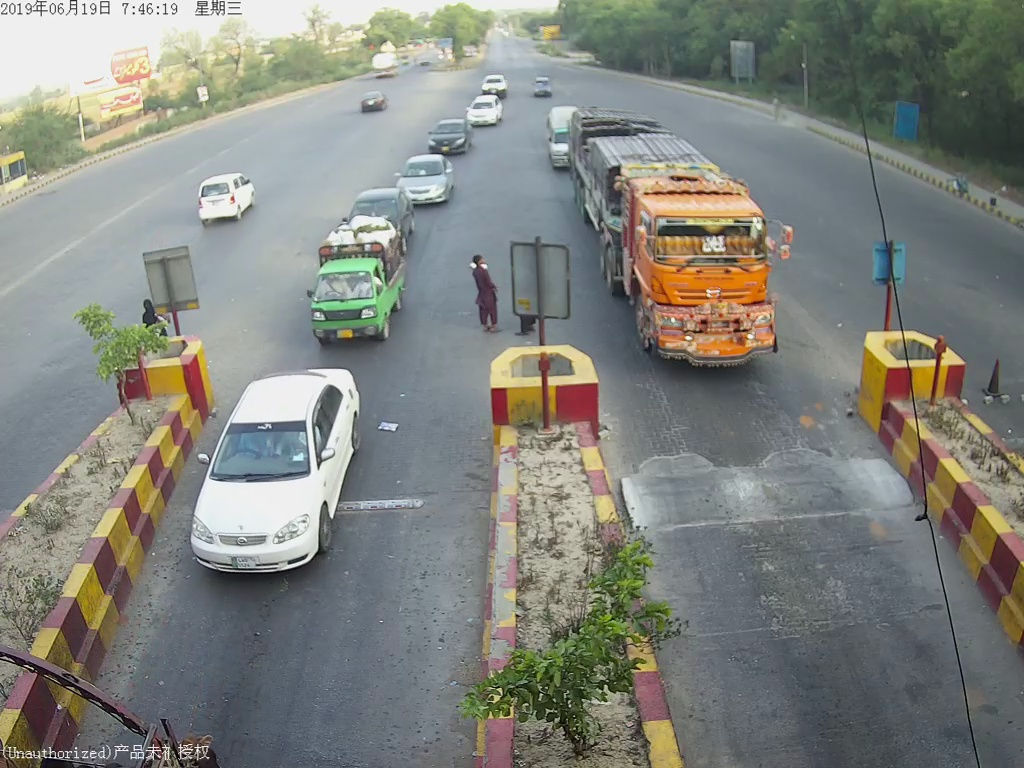Cat-1: (192, 358, 368, 573), (306, 222, 406, 337)
Cat-5: (570, 119, 789, 376)
